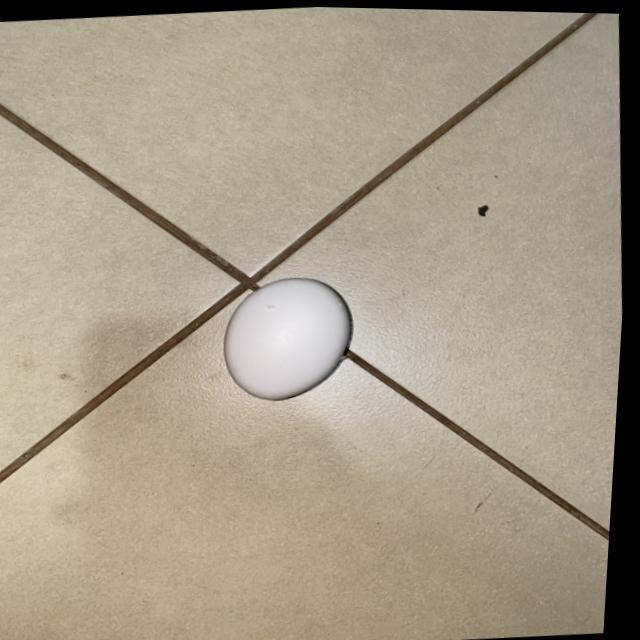egg: (214, 265, 374, 407)
